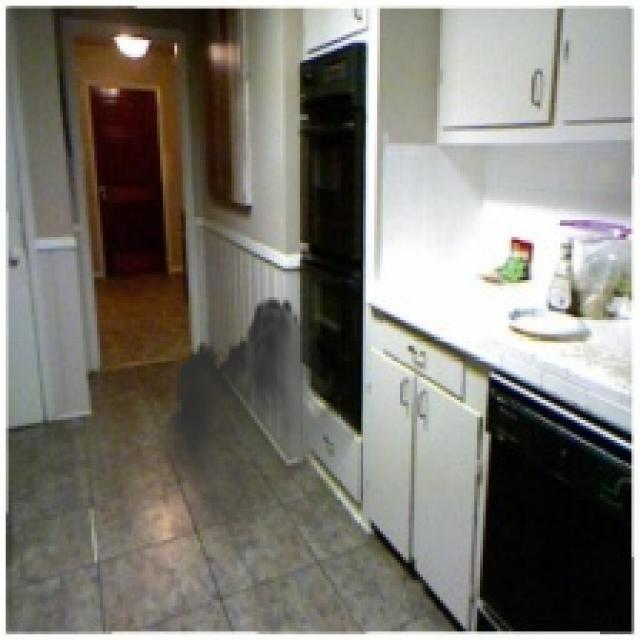Smoke: (157, 286, 363, 563)
